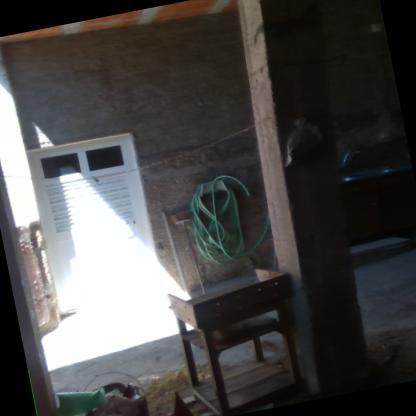closed: (15, 115, 178, 328)
